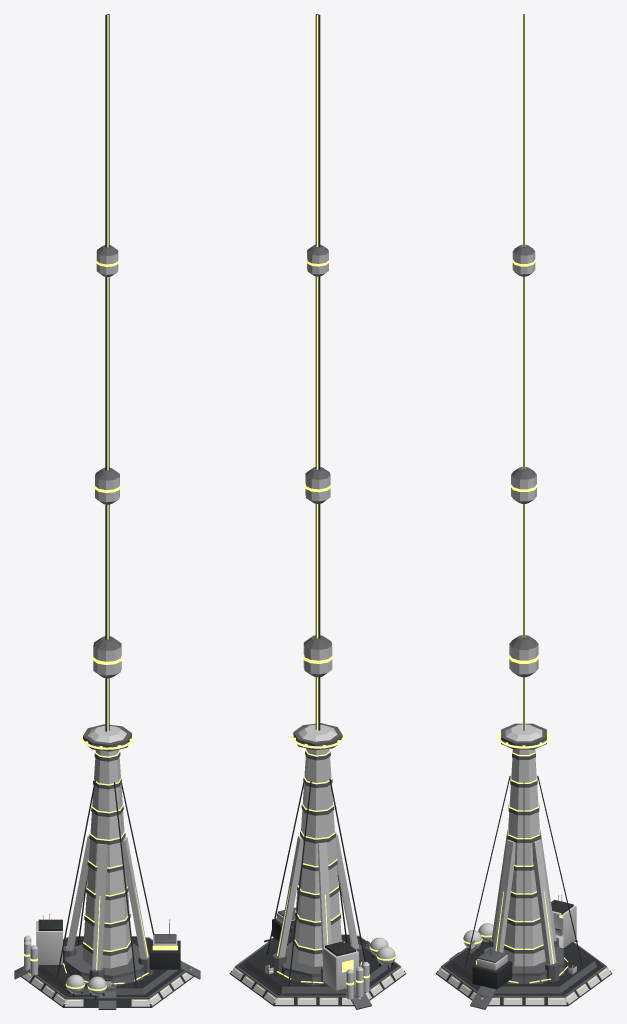
File: sb_shipyard_t3.glb
3 renders of one model, left to right at view 1: azimuth 30°, elevation 25°; view 2: azimuth 150°, elevation 25°; view 3: azimuth 270°, elevation 25°, orthographic.
Parts seen in each view (by area): view 1: SM_EL3_LIGHT, SM_LC_BODY, SM_EL3_DARK, SM_EL3_CABLE, SM_EL3_GLOW, SM_EL3_TANKS; view 2: SM_EL3_LIGHT, SM_LC_BODY, SM_EL3_CABLE, SM_EL3_DARK, SM_EL3_GLOW, SM_EL3_TANKS; view 3: SM_EL3_LIGHT, SM_LC_BODY, SM_EL3_GLOW, SM_EL3_DARK, SM_EL3_CABLE, SM_EL3_TANKS.
Boxes of the visible parts, x1,y1,x2,y2 form: SM_EL3_LIGHT: (66,252,148,970); SM_LC_BODY: (14,915,200,1009); SM_EL3_DARK: (62,245,153,986); SM_EL3_CABLE: (56,14,154,988); SM_EL3_GLOW: (63,14,148,984); SM_EL3_TANKS: (66,974,106,995); SM_EL3_LIGHT: (277,251,359,966); SM_LC_BODY: (229,907,406,1009); SM_EL3_CABLE: (266,14,365,986); SM_EL3_DARK: (271,244,364,986); SM_EL3_GLOW: (276,14,362,983); SM_EL3_TANKS: (370,937,395,964); SM_EL3_LIGHT: (491,251,556,966); SM_LC_BODY: (435,896,612,1009); SM_EL3_GLOW: (495,15,568,983); SM_EL3_DARK: (484,244,564,983); SM_EL3_CABLE: (465,14,582,986); SM_EL3_TANKS: (463,923,493,948).
Size of the model in its own units: 51.4 by 320 by 53.6.
